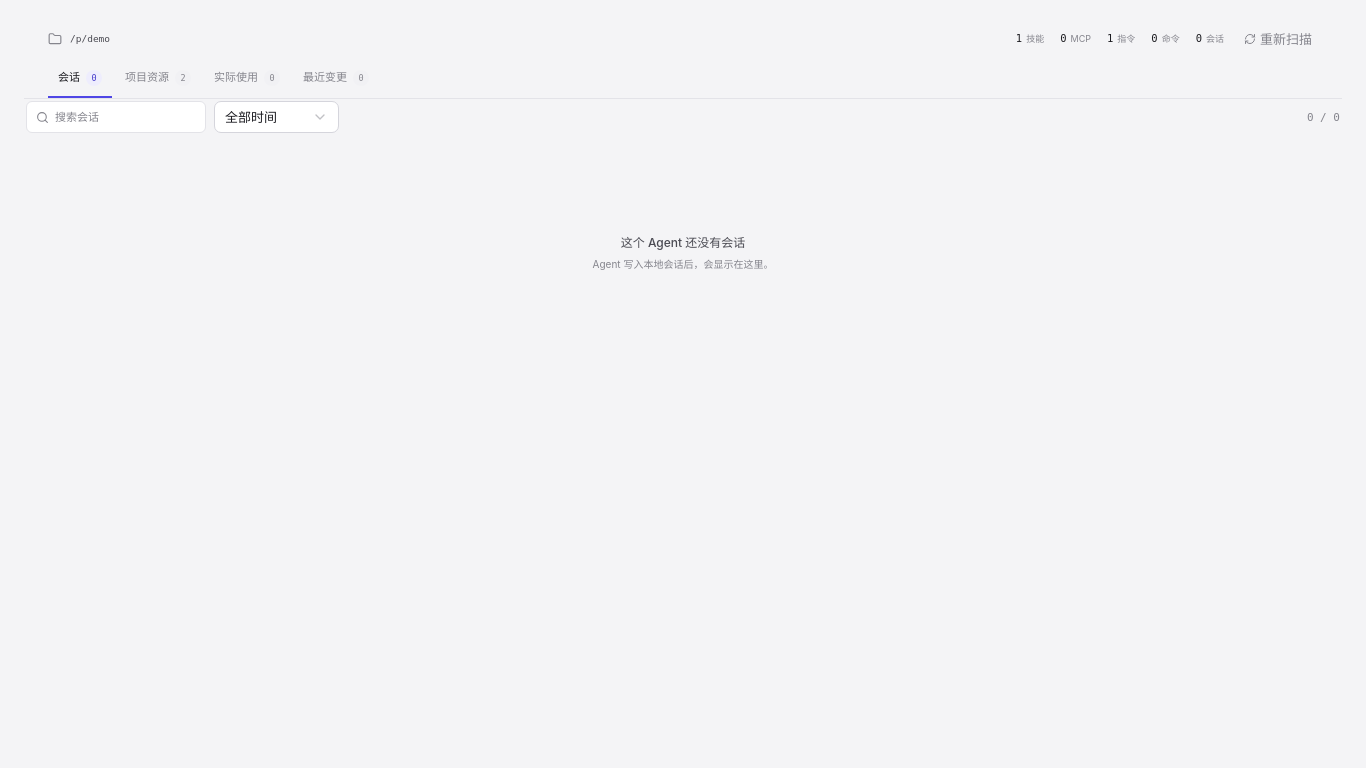
Scenario: opens project asset details inline
Click the tab "项目资源 2" at (158, 79), box left=115, top=60, right=201, bottom=98
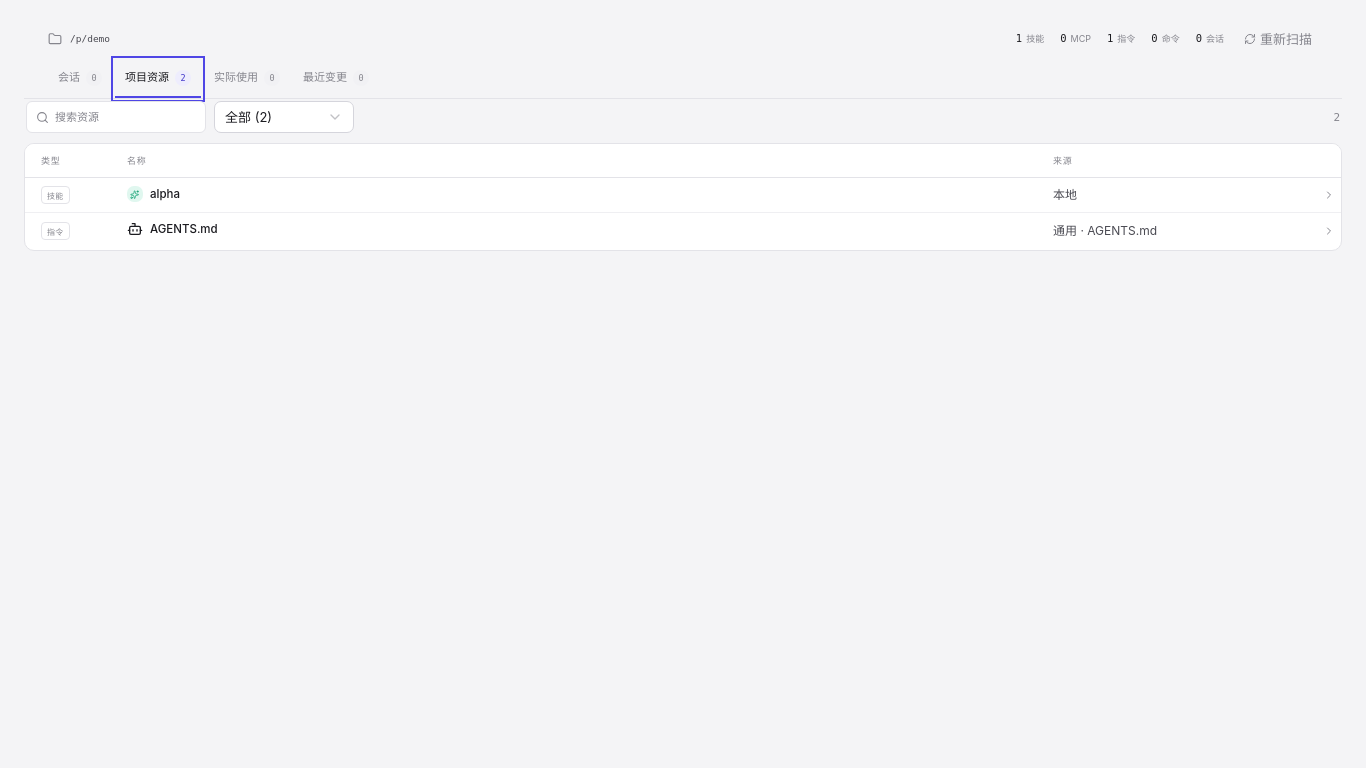
Click the text "alpha" at (154, 194), box left=127, top=186, right=180, bottom=202
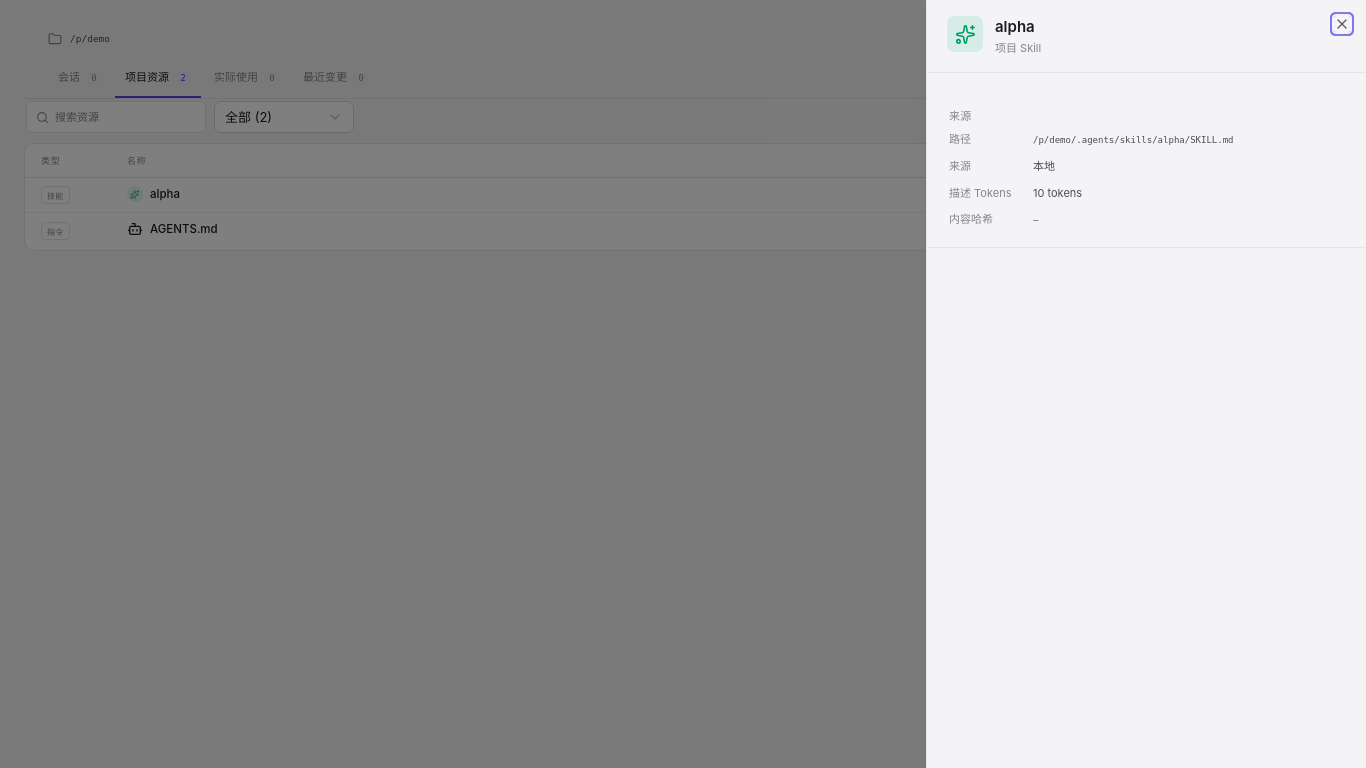
expect the text "项目 Skill" is shown: met, box left=995, top=41, right=1041, bottom=56
expect the text "/p/demo/.agents/skills/alpha/SKILL.md" is shown: met, box left=1033, top=135, right=1234, bottom=145
Press Escape
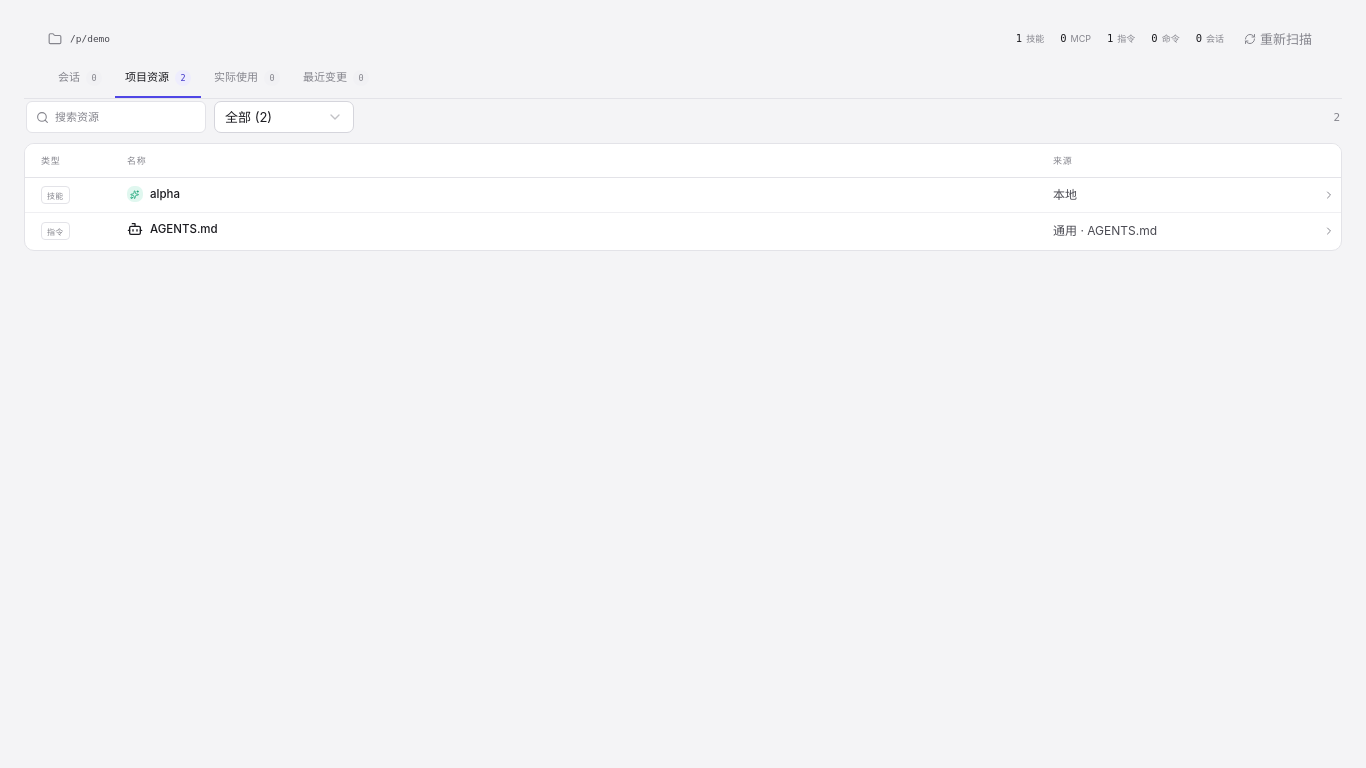
Click the text "AGENTS.md" at (172, 229), box left=127, top=221, right=218, bottom=237
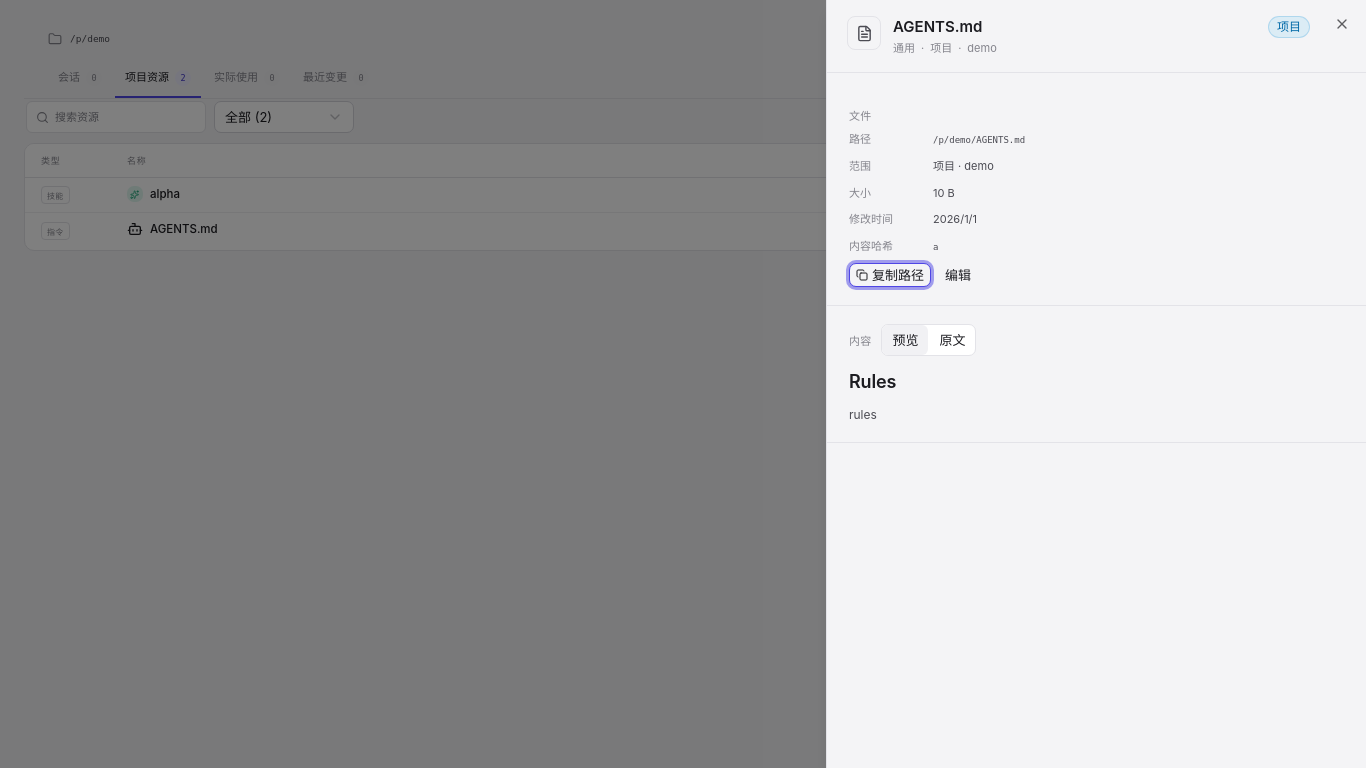
expect the heading "内容" is shown: met, box left=849, top=332, right=872, bottom=348
